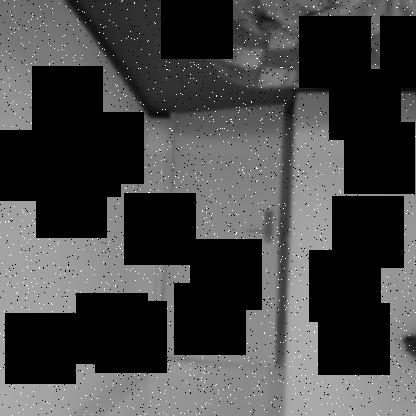Porte: (144, 106, 294, 372)
